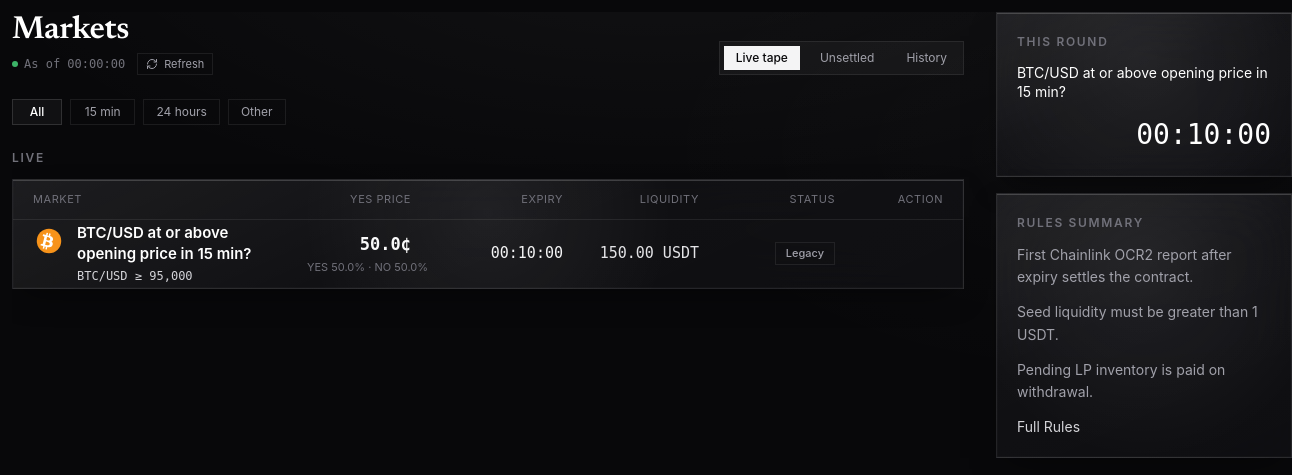
MarketsPage duration filter chips › shows reset filter CTA when a duration filter has no matches
The width and height of the screenshot is (1292, 475).
Click the button "24 hours": (182, 112) x1=143 y1=99 x2=220 y2=125
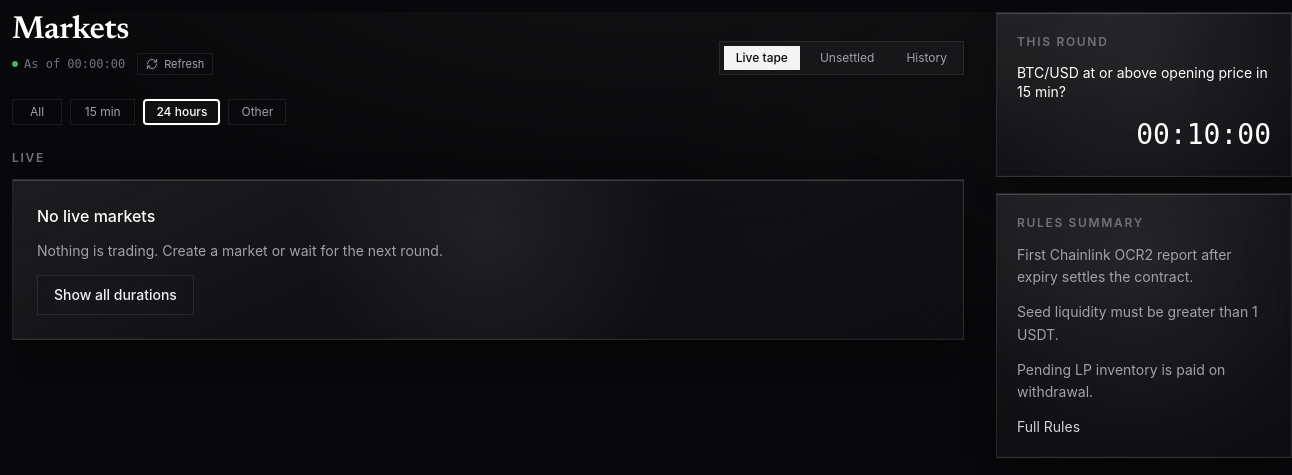
Result: the button "Show all durations" is shown
Click the button "Show all durations": (115, 294) x1=37 y1=274 x2=194 y2=314
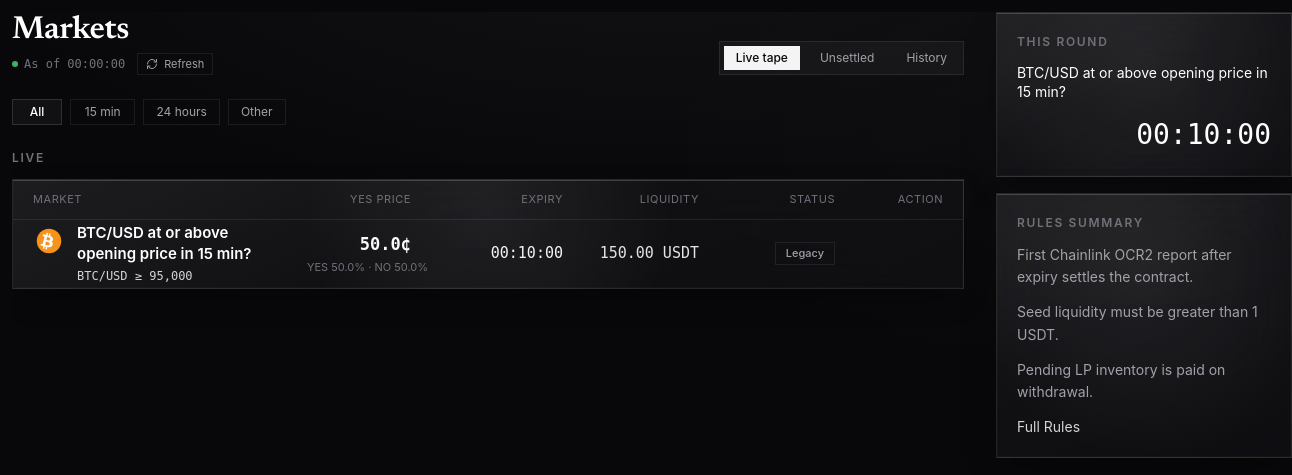
Result: the link named "in 15 min?" is shown at x1=13 y1=220 x2=963 y2=288
